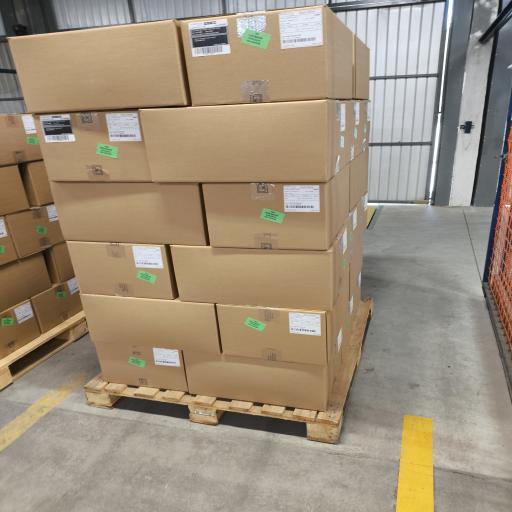pallet: (85, 298, 373, 443), (0, 311, 88, 389)
